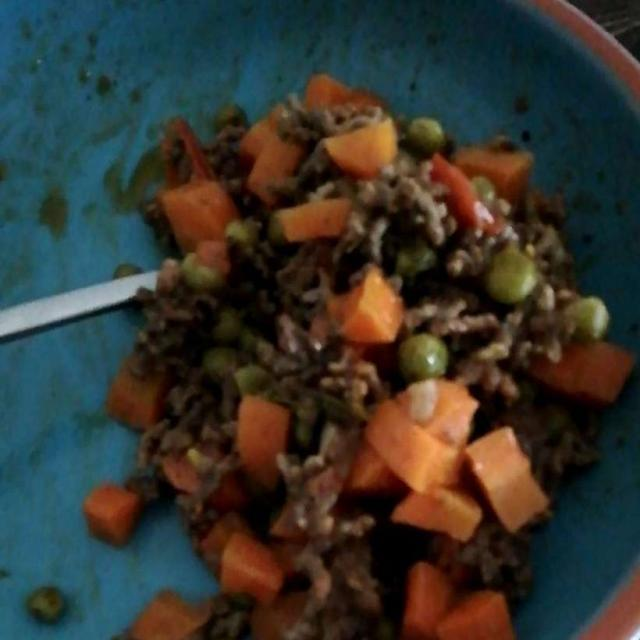beef: (99, 86, 621, 623)
